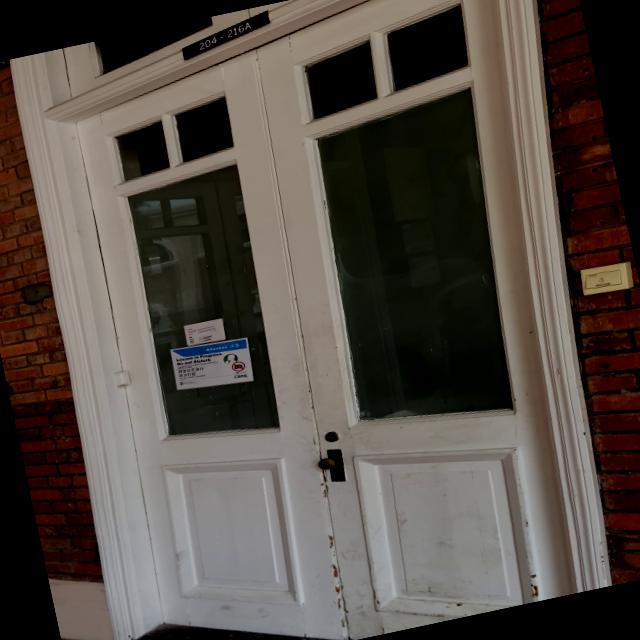room204: (178, 7, 274, 58)
